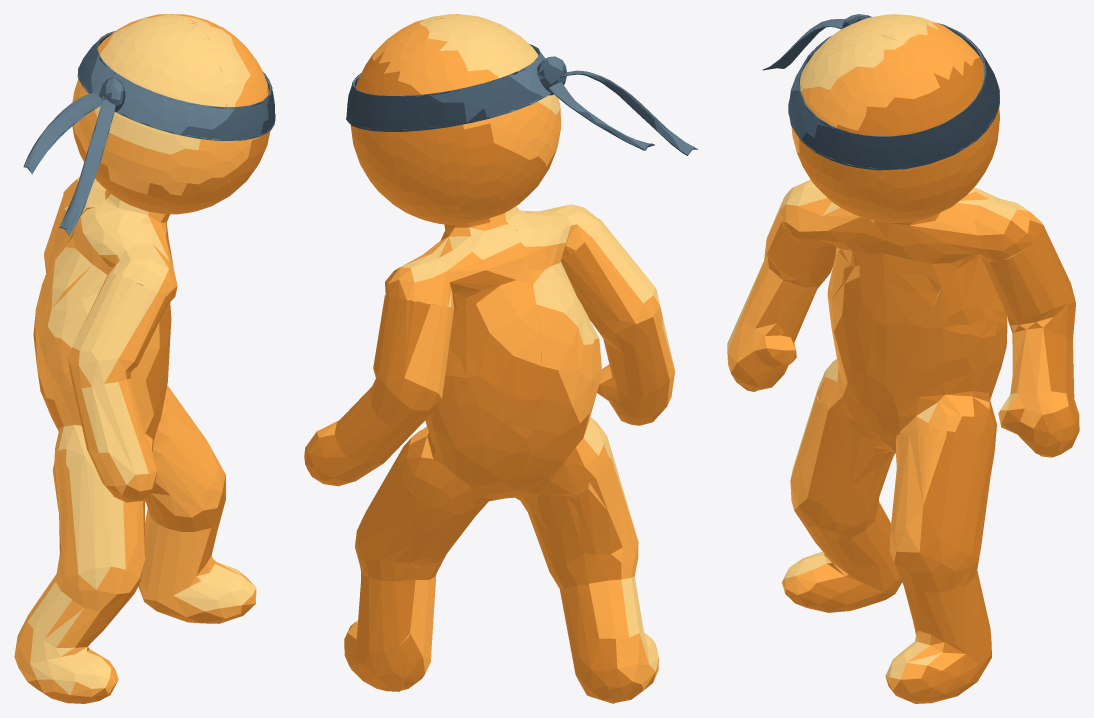
File: Ninja_Idle0_R.gltf
3 renders of one model, left to right at view 1: azimuth 30°, elevation 25°; view 2: azimuth 150°, elevation 25°; view 3: azimuth 270°, elevation 25°, orthographic. The views are drawn at different scales.
Parts seen in each view (by area): view 1: Ninja_Idle0_R_baked; view 2: Ninja_Idle0_R_baked; view 3: Ninja_Idle0_R_baked.
Part boxes in pixels (x1=…): Ninja_Idle0_R_baked: x1=14, y1=14, x2=275, y2=703; Ninja_Idle0_R_baked: x1=304, y1=14, x2=698, y2=703; Ninja_Idle0_R_baked: x1=727, y1=14, x2=1079, y2=703.
Bounding box in the file's own units: 0.4314 × 1 × 0.4915.
